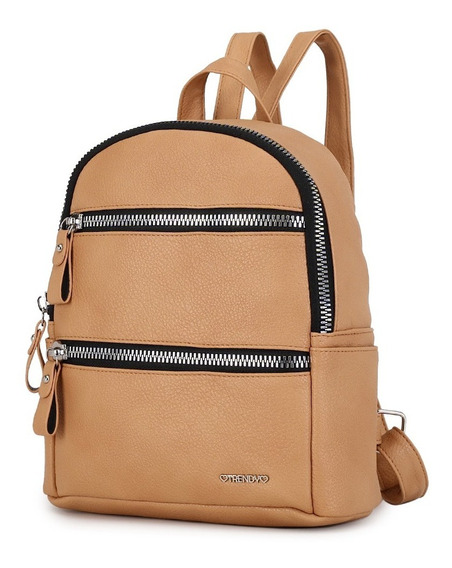cartera: (27, 25, 427, 531)
